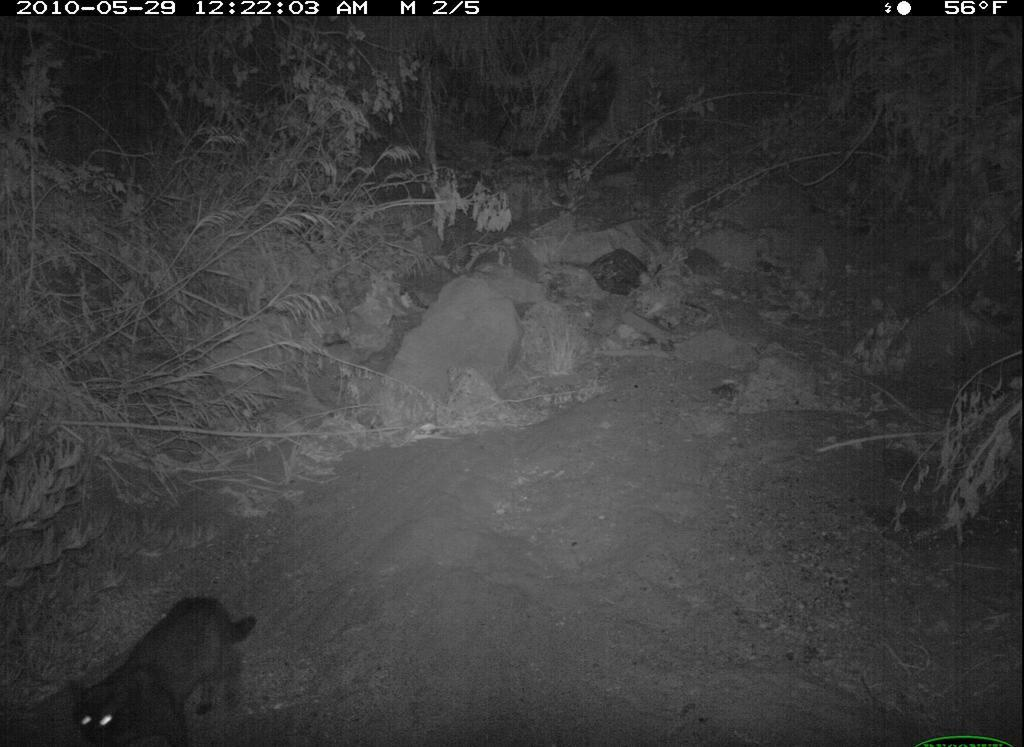cat: (62, 594, 262, 747)
